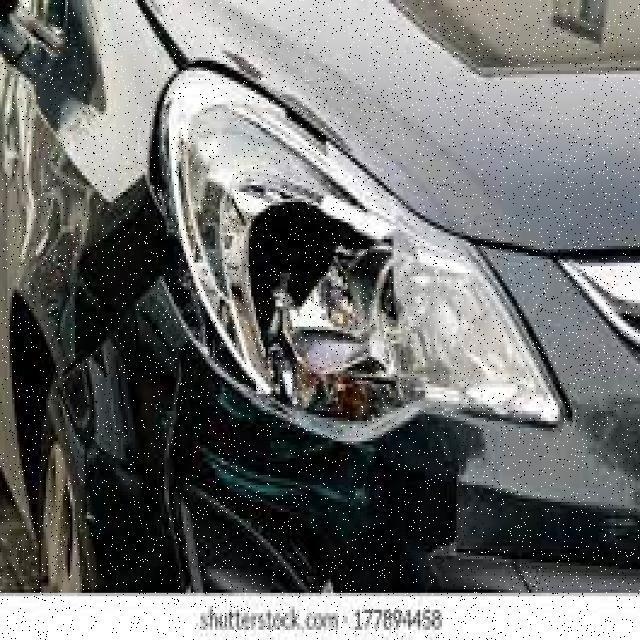Headlight-Damage: (154, 67, 442, 418)
front-bumper-dent: (24, 259, 411, 586)
